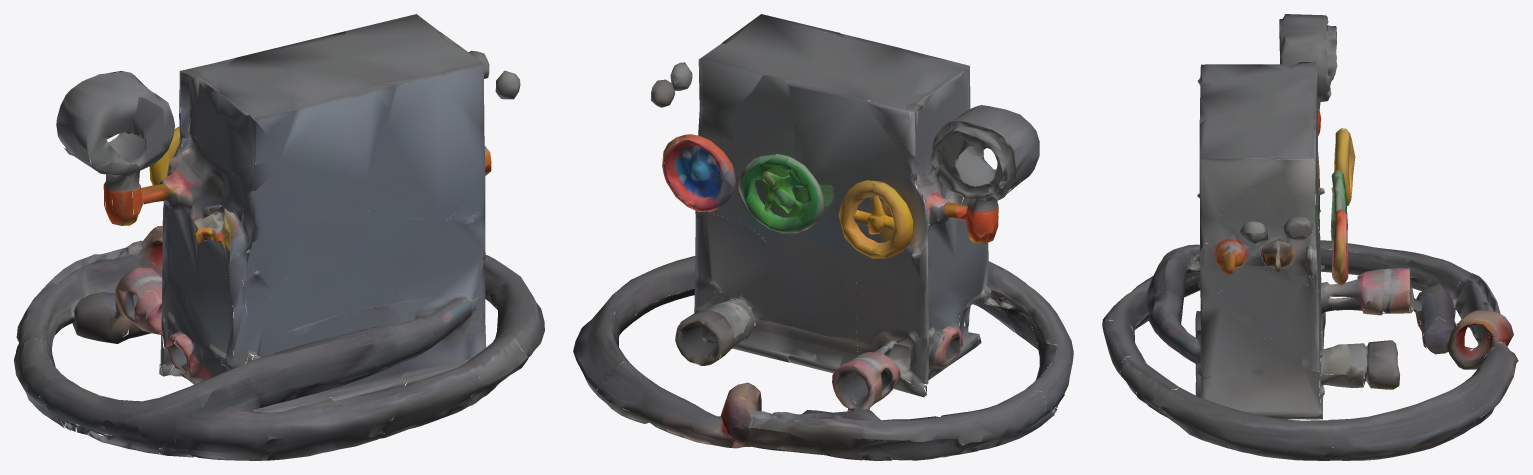
File: prop_coolant_console_01.glb
3 renders of one model, left to right at view 1: azimuth 30°, elevation 25°; view 2: azimuth 150°, elevation 25°; view 3: azimuth 270°, elevation 25°, orthographic. The views are drawn at different scales.
Parts seen in each view (by area): view 1: tripo_node_184ae010-c0ab-4fa0-9ff9-ab6cf8bbac67; view 2: tripo_node_184ae010-c0ab-4fa0-9ff9-ab6cf8bbac67; view 3: tripo_node_184ae010-c0ab-4fa0-9ff9-ab6cf8bbac67.
Boxes of the visible parts, x1,y1,x2,y2 form: tripo_node_184ae010-c0ab-4fa0-9ff9-ab6cf8bbac67: [14, 14, 544, 460]; tripo_node_184ae010-c0ab-4fa0-9ff9-ab6cf8bbac67: [573, 14, 1073, 460]; tripo_node_184ae010-c0ab-4fa0-9ff9-ab6cf8bbac67: [1102, 14, 1518, 460].
Bounding box in the file's own units: 0.9991 × 0.6695 × 0.891.
1 material, 1 textured.
